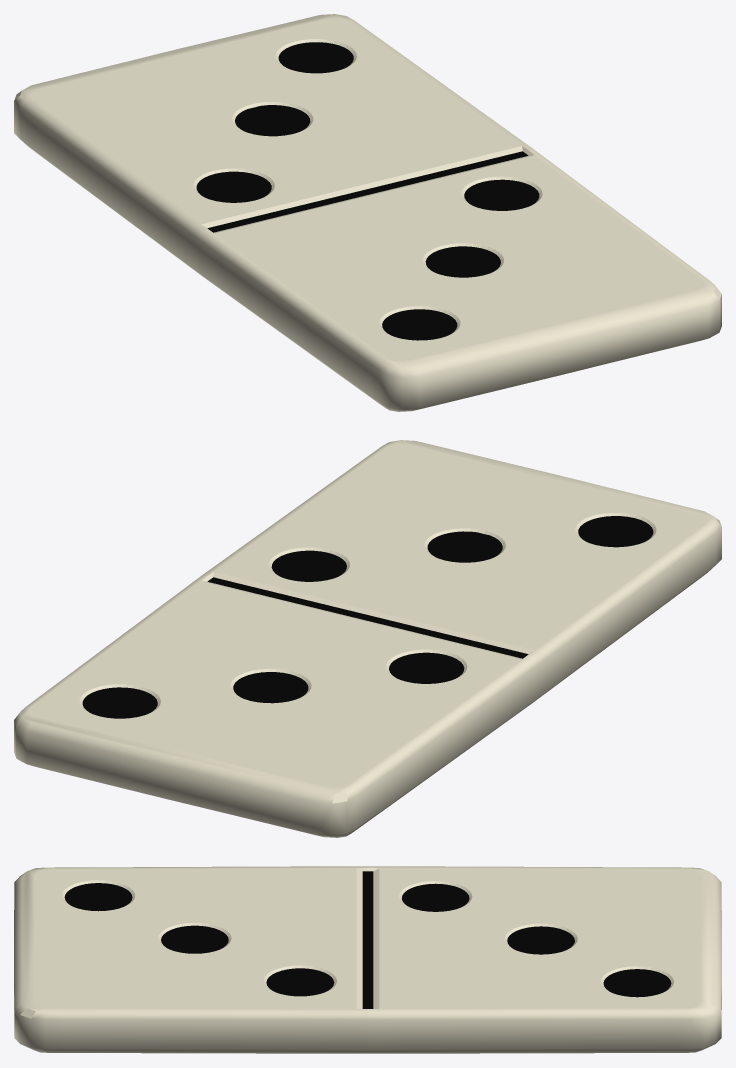
File: Domino_3_3.glb
The picture shows the model from 3 angles, top to bottom: view 1: azimuth 30°, elevation 25°; view 2: azimuth 150°, elevation 25°; view 3: azimuth 270°, elevation 25°; orthographic projection. The views are drawn at different scales.
Visible parts, largest first — view 1: Domino_3_3_A.001, Domino_3_3_B.001; view 2: Domino_3_3_B.001, Domino_3_3_A.001; view 3: Domino_3_3_A.001, Domino_3_3_B.001.
Boxes of the visible parts, x1,y1,x2,y2 form: Domino_3_3_A.001: (197,149,721,411); Domino_3_3_B.001: (14,14,533,276); Domino_3_3_B.001: (14,575,538,837); Domino_3_3_A.001: (202,440,721,702); Domino_3_3_A.001: (14,866,367,1053); Domino_3_3_B.001: (368,866,721,1053).
Size of the model in its own units: 0.7725 by 0.105 by 1.54.
